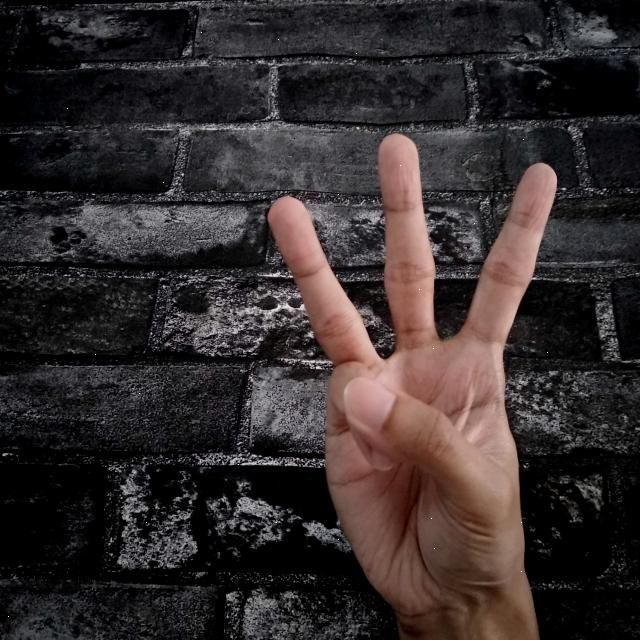W: (260, 126, 564, 640)
